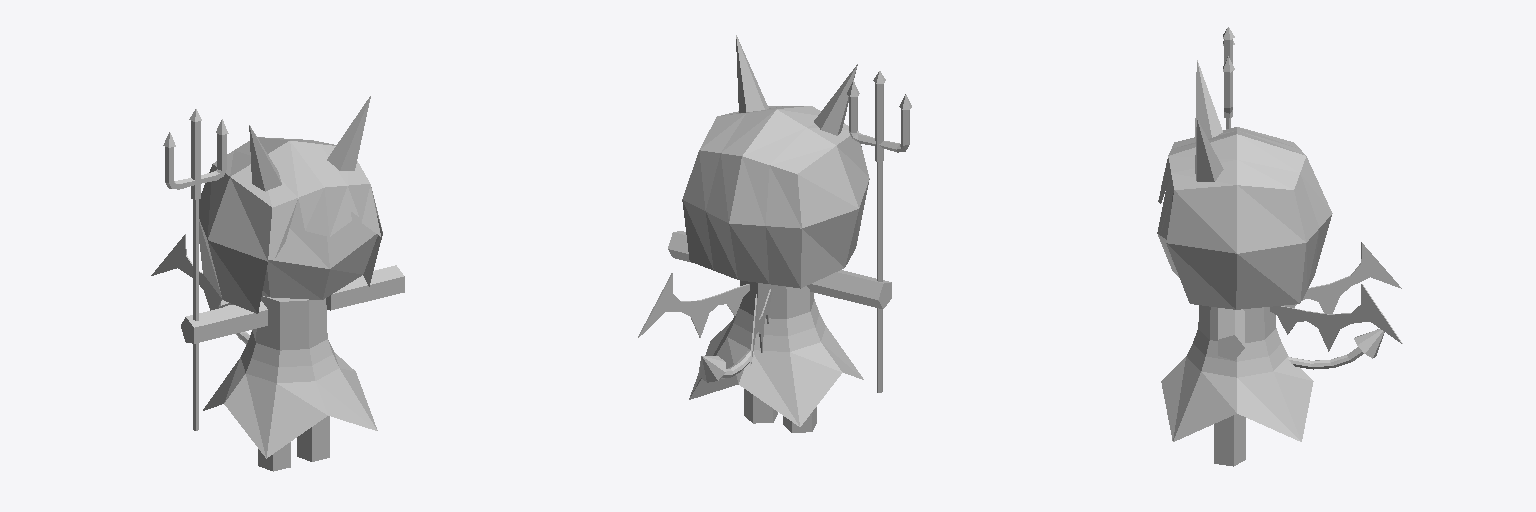
Rendered from enemyDevil.obj.
3 renders of one model, left to right at view 1: azimuth 30°, elevation 25°; view 2: azimuth 150°, elevation 25°; view 3: azimuth 270°, elevation 25°, orthographic.
Parts seen in each view (by area): view 1: 立方体.001, 円柱.009, 立方体, 円柱.002, 円柱.001, 円錐, 円柱.005, 平面.001, 円錐.001, 円柱.003, 円柱.006, 円柱.007 (+2 smaller); view 2: 立方体.001, 円柱.009, 平面, 円柱.002, 円錐, 円柱.005, 円錐.001, 円柱, 円柱.006, 円柱.003, 円柱.007, 円柱.008 (+1 smaller); view 3: 立方体.001, 円柱.009, 平面, 平面.001, 円柱.003, 円柱.001, 円柱, 円錐.001, 円錐, 立方体.
Boxes of the visible parts, box(x1,y1,x2,y2) form: 立方体.001: box(199, 137, 382, 313); 円柱.009: box(203, 296, 377, 458); 立方体: box(262, 188, 377, 299); 円柱.002: box(181, 301, 267, 343); 円柱.001: box(326, 265, 404, 310); 円錐: box(327, 96, 370, 170); 円柱.005: box(193, 200, 198, 430); 平面.001: box(151, 234, 221, 310); 円錐.001: box(249, 125, 281, 191); 円柱.003: box(297, 416, 329, 461); 円柱.006: box(189, 109, 201, 199); 円柱.007: box(201, 119, 228, 183); 立方体.001: box(682, 106, 869, 288); 円柱.009: box(689, 280, 863, 426); 平面: box(638, 273, 749, 337); 円柱.002: box(807, 270, 891, 308); 円錐: box(736, 35, 768, 112); 円柱.005: box(877, 162, 882, 392); 円錐.001: box(814, 64, 857, 135); 円柱: box(699, 350, 753, 382); 円柱.006: box(873, 71, 885, 161); 円柱.003: box(744, 389, 777, 423); 円柱.007: box(847, 80, 875, 145); 円柱.008: box(879, 94, 911, 152); 立方体.001: box(1158, 127, 1332, 309); 円柱.009: box(1161, 305, 1313, 441); 平面: box(1270, 284, 1402, 351); 平面.001: box(1284, 242, 1401, 313); 円柱.003: box(1214, 414, 1245, 466); 円柱.001: box(1218, 308, 1244, 360); 円柱: box(1288, 329, 1384, 369); 円錐.001: box(1195, 60, 1222, 141); 円錐: box(1195, 119, 1223, 181); 立方体: box(1157, 175, 1178, 276).
Size of the model in its own units: 3.41 by 5.2 by 3.08.